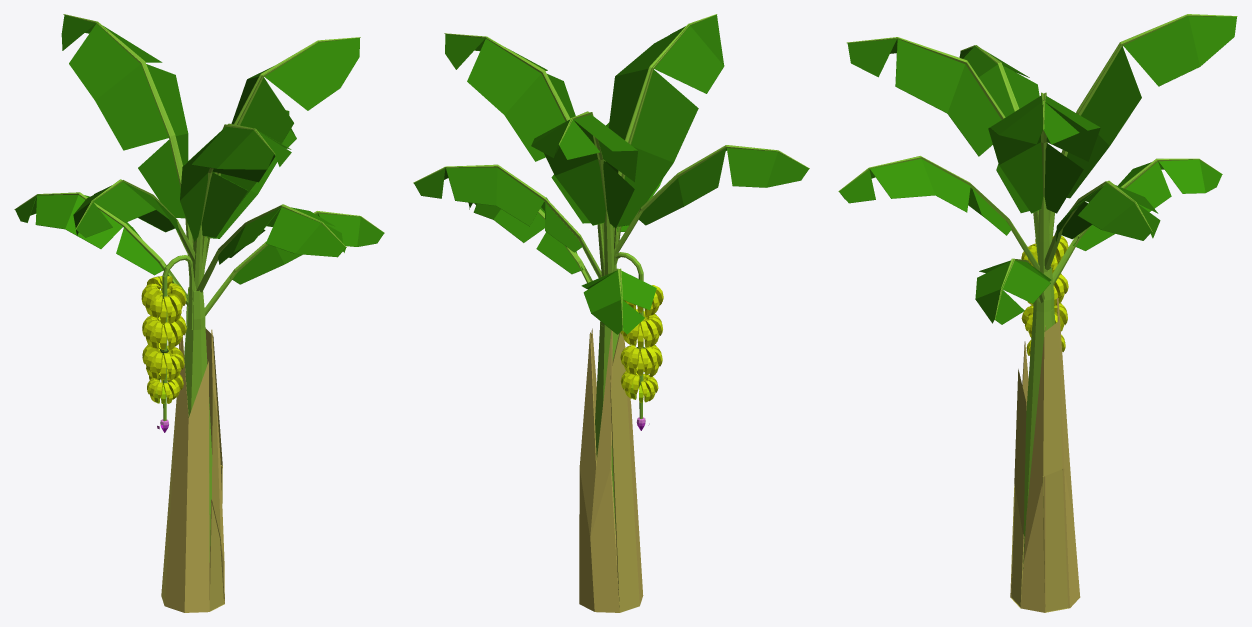
File: bananatreeunified_new.fbx
3 renders of one model, left to right at view 1: azimuth 30°, elevation 25°; view 2: azimuth 150°, elevation 25°; view 3: azimuth 270°, elevation 25°, orthographic. The views are drawn at different scales.
Parts seen in each view (by area): view 1: Cylinder; view 2: Cylinder; view 3: Cylinder.
Part boxes in pixels (left/top/right/bottom): Cylinder: left=14, top=14, right=384, bottom=612; Cylinder: left=413, top=14, right=809, bottom=612; Cylinder: left=838, top=14, right=1237, bottom=612.
Size of the model in its own units: 1705 by 2683 by 1708.
